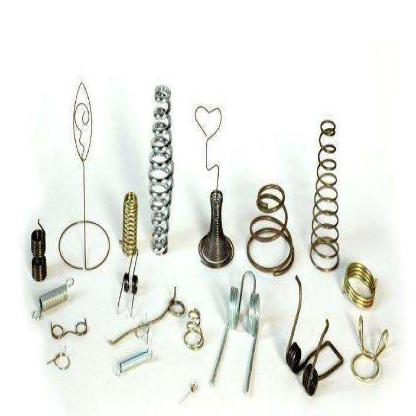FOD: (209, 268, 262, 399), (145, 82, 176, 259), (308, 116, 342, 276), (31, 272, 76, 325), (114, 247, 142, 321), (340, 260, 379, 310), (116, 192, 139, 262), (114, 345, 155, 382), (183, 304, 205, 354)
